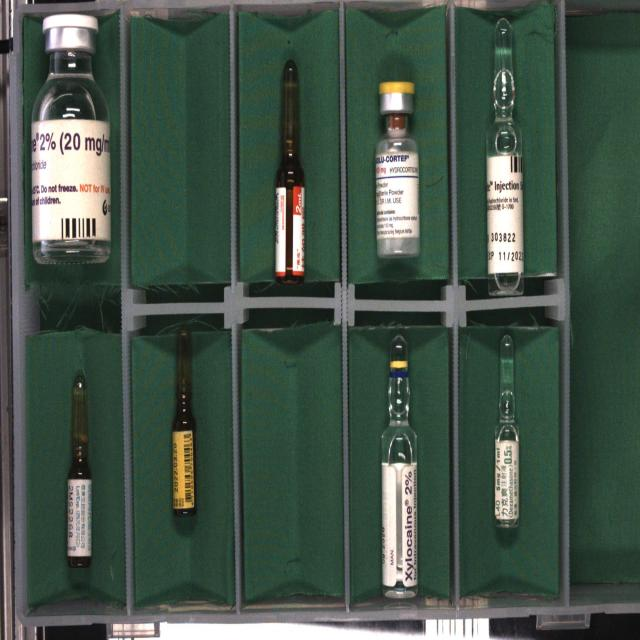Vials: (31, 14, 110, 263), (376, 82, 419, 258)
